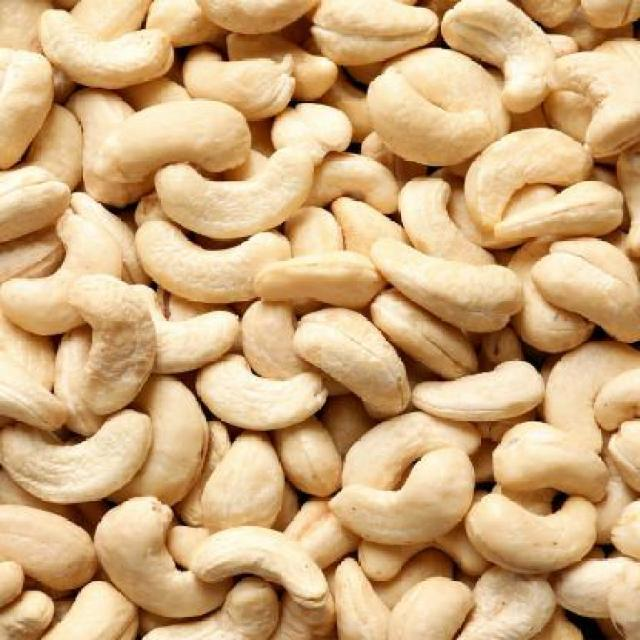Frutta secca: (6, 2, 632, 640)
